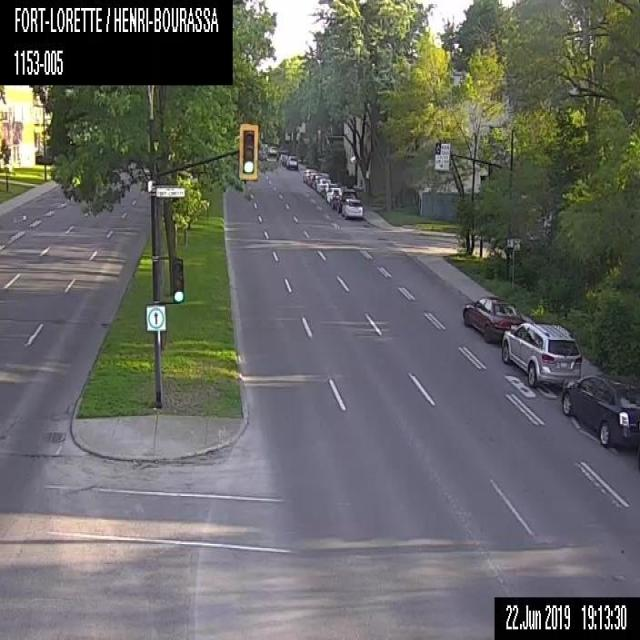vehicle: (561, 374, 639, 451), (501, 321, 580, 387), (463, 293, 525, 344), (330, 187, 356, 210), (341, 197, 364, 220), (326, 186, 341, 204), (322, 182, 338, 198), (315, 177, 331, 193), (302, 168, 316, 182), (285, 154, 298, 169), (311, 172, 323, 188)
